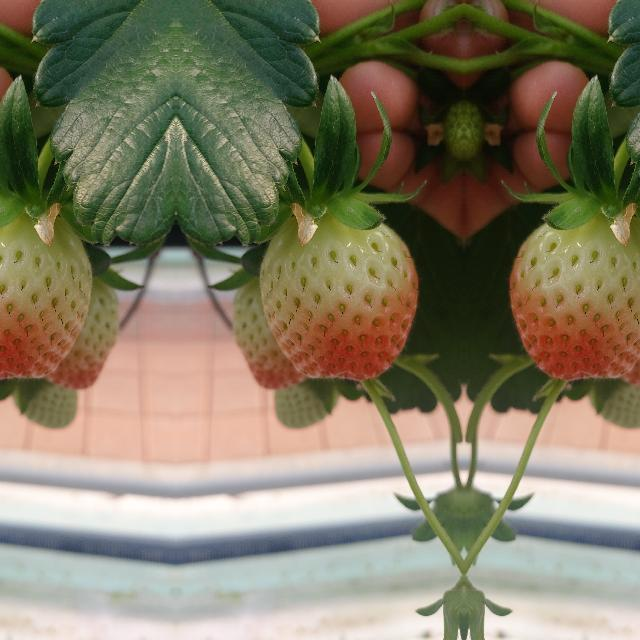Health_50: (259, 212, 417, 380), (509, 212, 640, 379), (0, 212, 91, 379)
